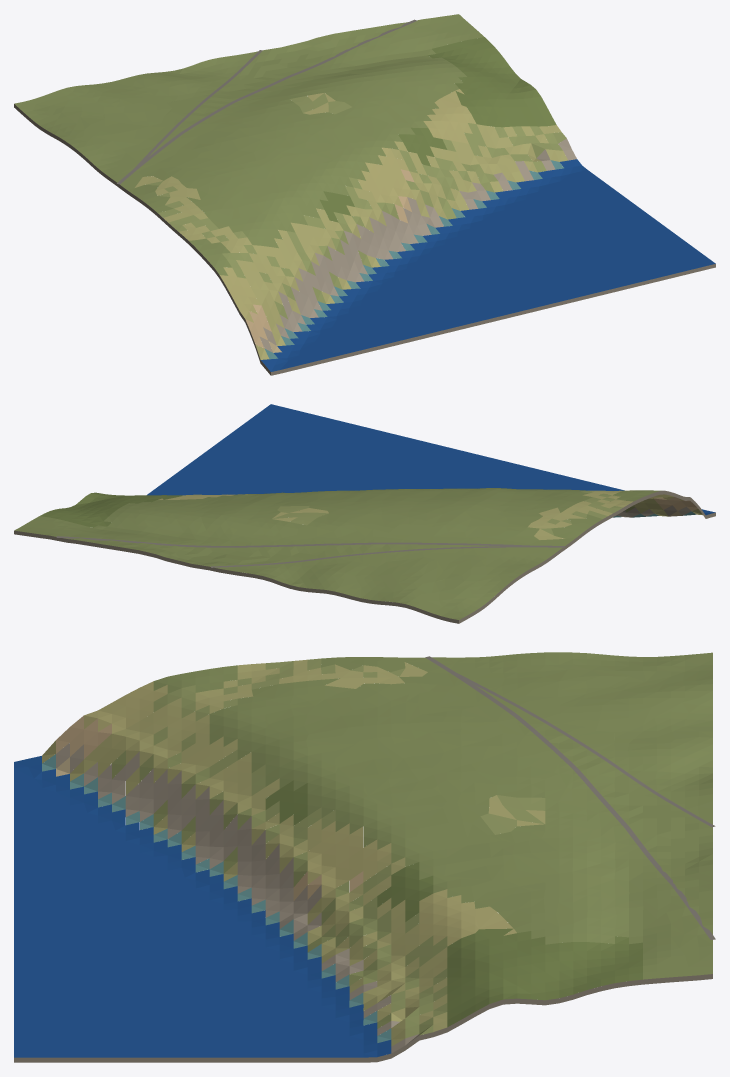
File: parca_+9_-8-uzak.glb
3 renders of one model, top to bottom at view 1: azimuth 30°, elevation 25°; view 2: azimuth 150°, elevation 25°; view 3: azimuth 270°, elevation 25°, orthographic. The views are drawn at different scales.
Parts seen in each view (by area): view 1: parca_+9_-8_arazi_uzak, parca_+9_-8_yollar_uzak; view 2: parca_+9_-8_arazi_uzak, parca_+9_-8_yollar_uzak; view 3: parca_+9_-8_arazi_uzak, parca_+9_-8_yollar_uzak.
Boxes of the visible parts, bbox=[...] form: parca_+9_-8_arazi_uzak: bbox=[14, 14, 715, 375]; parca_+9_-8_yollar_uzak: bbox=[117, 19, 417, 184]; parca_+9_-8_arazi_uzak: bbox=[14, 404, 715, 623]; parca_+9_-8_yollar_uzak: bbox=[56, 536, 564, 567]; parca_+9_-8_arazi_uzak: bbox=[14, 652, 712, 1062]; parca_+9_-8_yollar_uzak: bbox=[425, 656, 715, 939].
Size of the model in its own units: 1004 by 187 by 1004.
